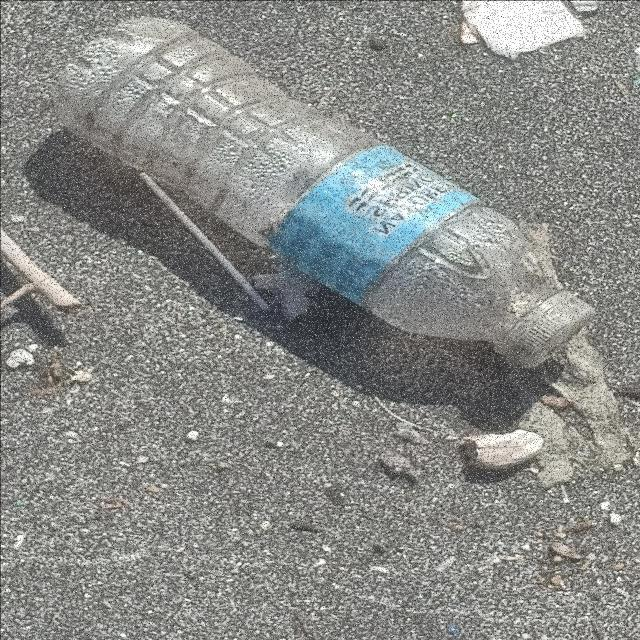plastic_waste: (49, 19, 594, 369)
